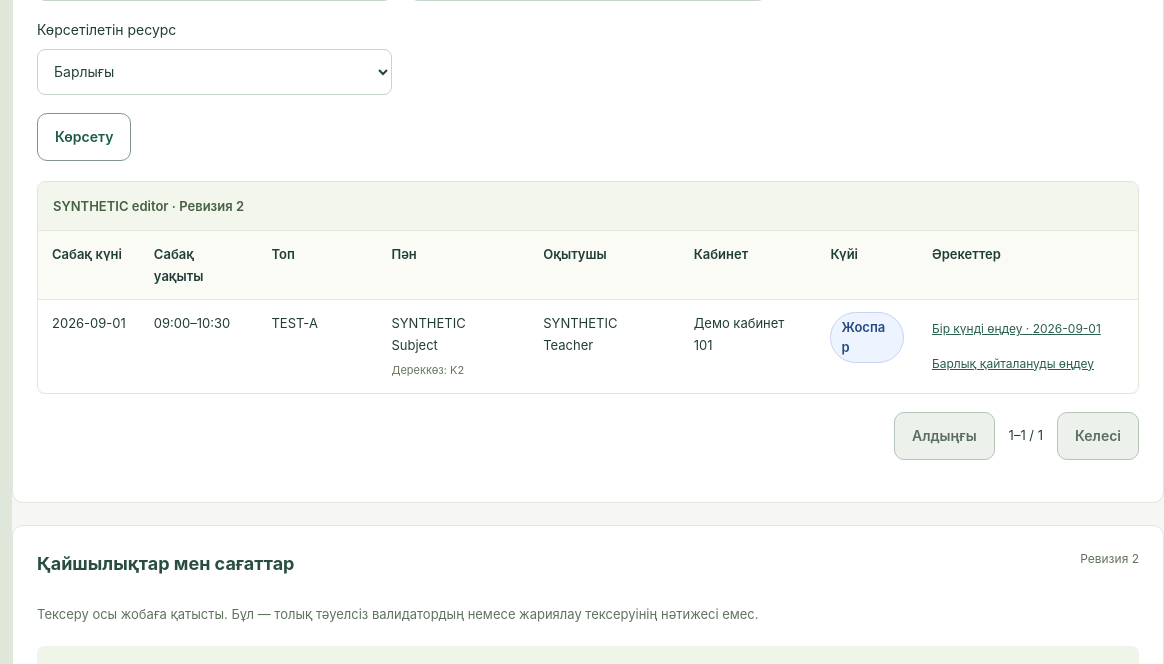
Test case: manual schedule editor › does not silently advance an open form to another user's revision when filtering
(page scrolled)
Click the button "Бір күнді өңдеу · 2026-09-01" at (1016, 329), box [932,312,1101,347]
(page scrolled)
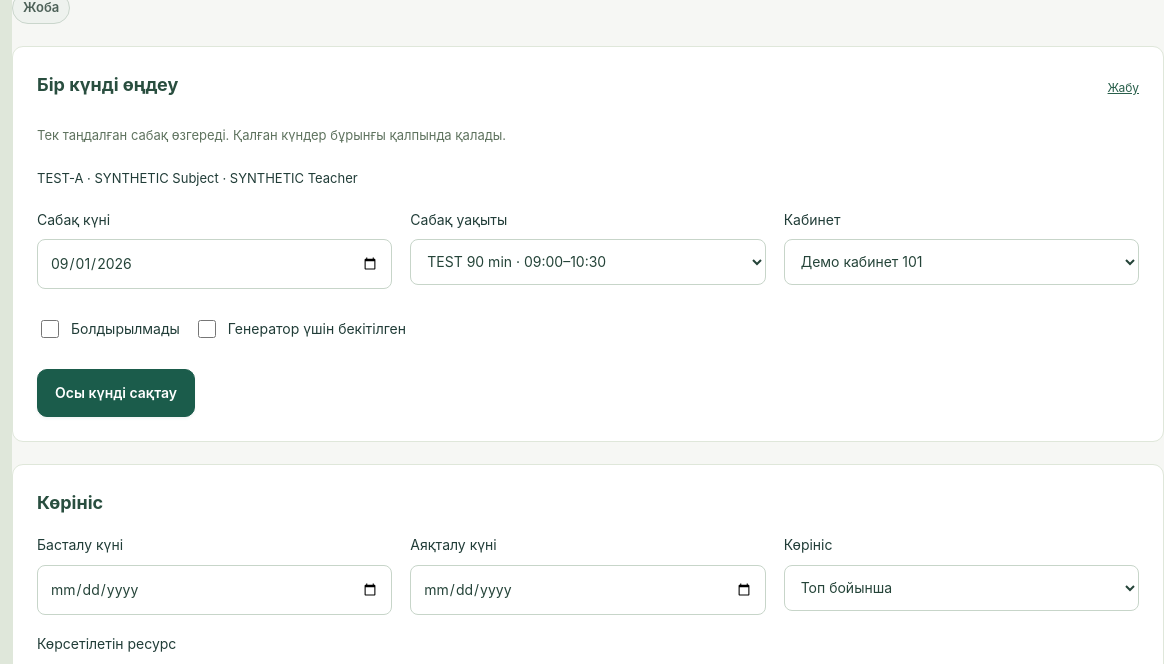
Click the checkbox labelled "Генератор үшін бекітілген" at (207, 329), box [198,320,216,338]
(page scrolled)
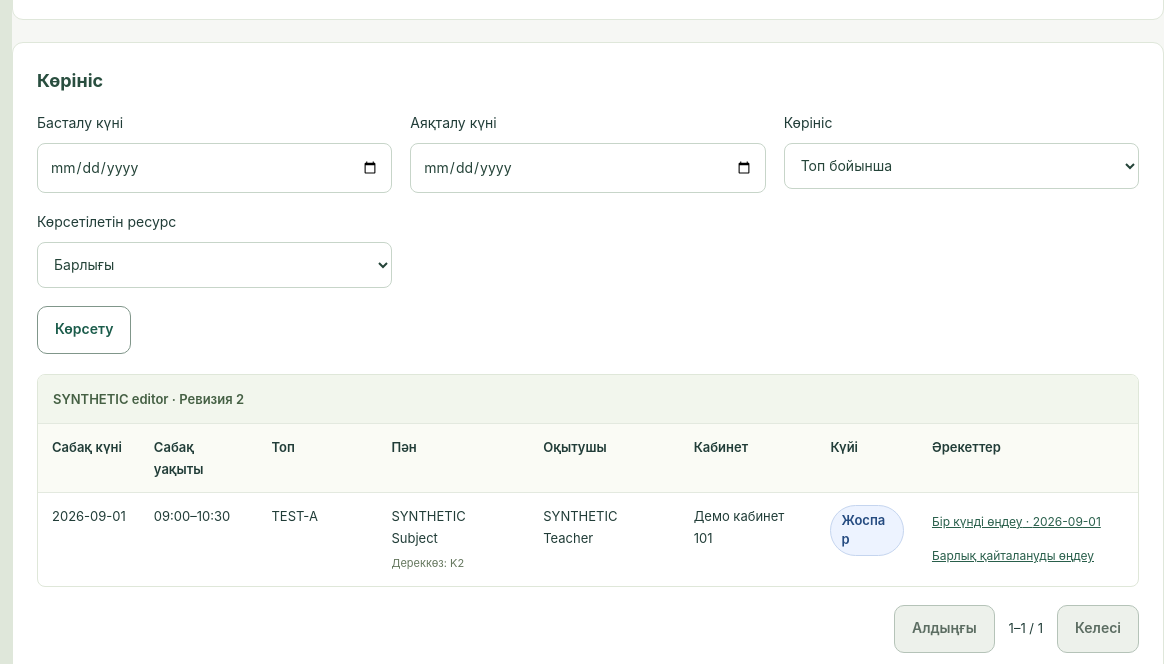
Click the button "Көрсету" at (84, 330), box [37,306,131,354]
(page scrolled)
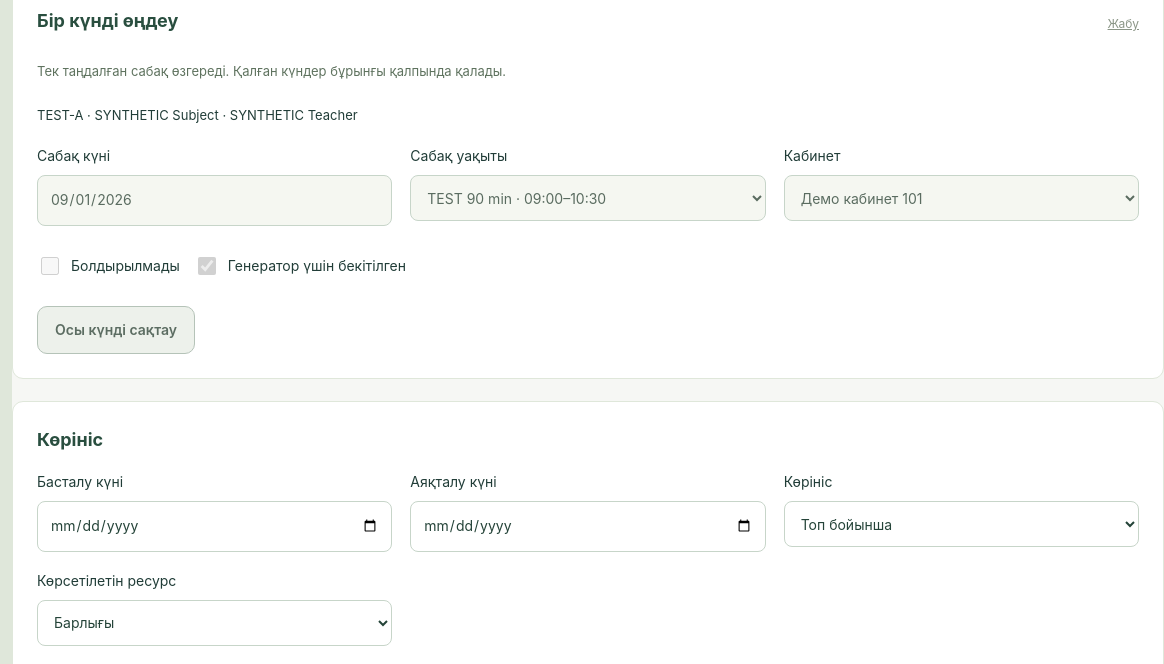
Now the checkbox labelled "Генератор үшін бекітілген" is checked, box [198,257,216,275]
Now the button "Осы күнді сақтау" is disabled, box [37,306,195,354]
